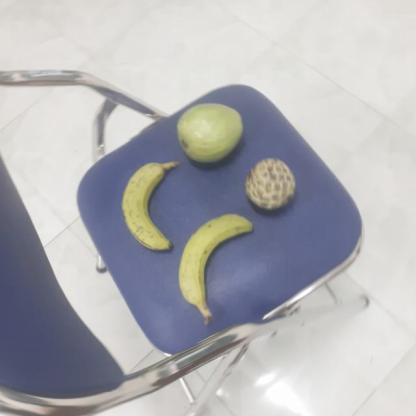annona: (246, 158, 299, 210)
banana: (178, 214, 252, 300), (123, 161, 181, 247)
guava: (175, 102, 246, 166)
